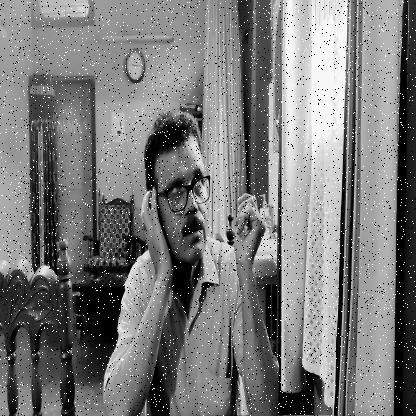Distracted: (146, 108, 212, 274)
